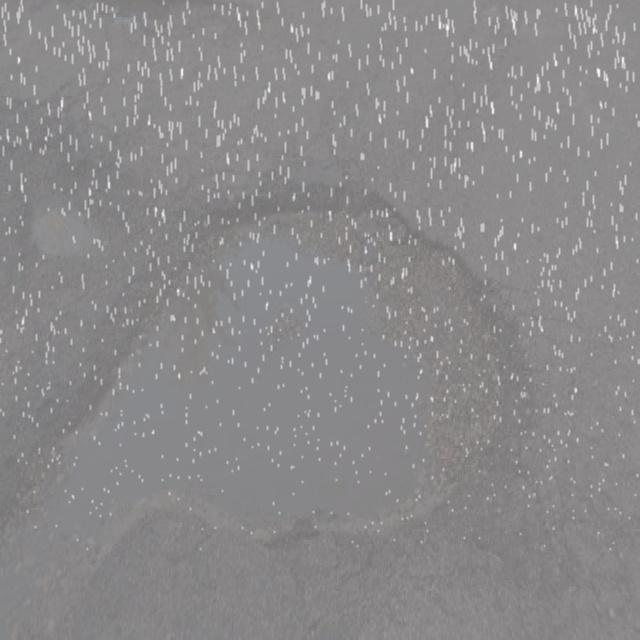Pothole: (2, 172, 528, 596)
